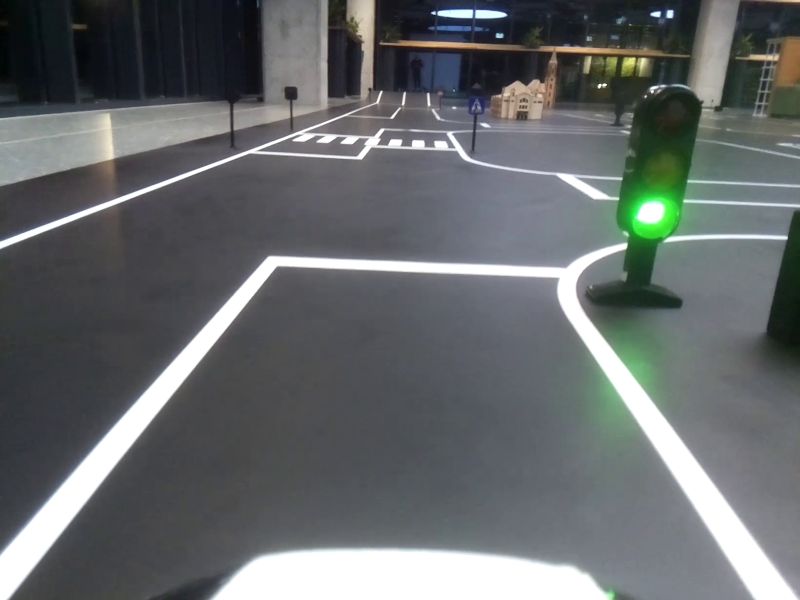traffic_green: (626, 88, 681, 243)
